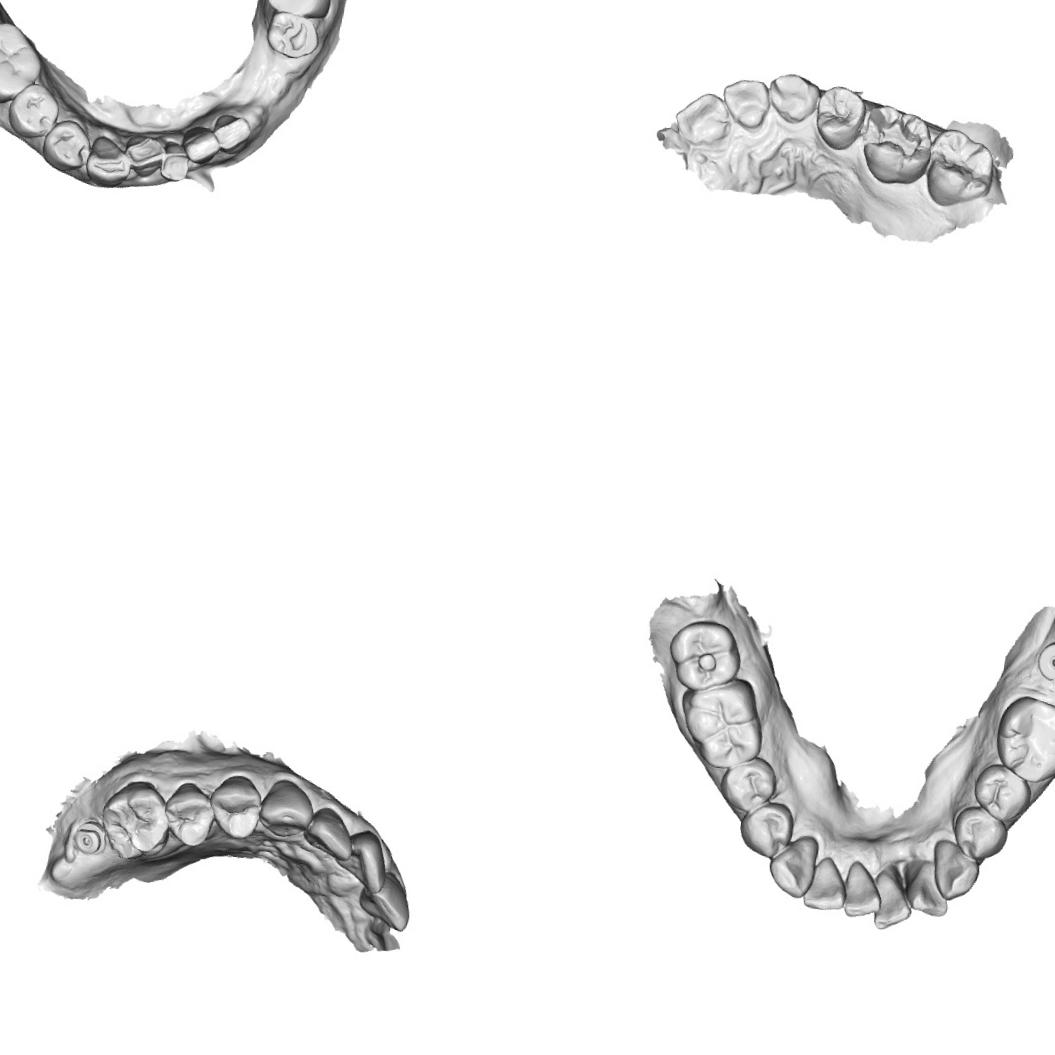canine: (764, 830, 824, 902), (255, 776, 319, 842), (926, 836, 986, 905), (763, 69, 822, 128), (81, 133, 138, 188)
implant: (70, 816, 109, 858), (1032, 635, 1055, 689)
incisor: (329, 826, 392, 896), (354, 868, 415, 935), (671, 88, 734, 150), (300, 804, 358, 864), (901, 858, 956, 920), (799, 852, 851, 916), (837, 856, 887, 922), (868, 866, 916, 934), (718, 75, 773, 132), (862, 115, 925, 160), (122, 126, 168, 181), (156, 132, 201, 188), (208, 110, 256, 158), (180, 122, 224, 170)
molar: (676, 671, 770, 774), (856, 102, 936, 192), (95, 776, 174, 865), (921, 125, 1000, 213), (662, 614, 746, 696), (988, 691, 1055, 789), (0, 16, 49, 109), (258, 0, 341, 23)
premolar: (967, 760, 1036, 828), (712, 752, 782, 819), (733, 794, 798, 862), (205, 771, 266, 842), (2, 78, 66, 144), (948, 802, 1014, 866), (812, 82, 870, 154), (159, 779, 218, 849), (37, 115, 94, 176), (262, 11, 322, 64)
